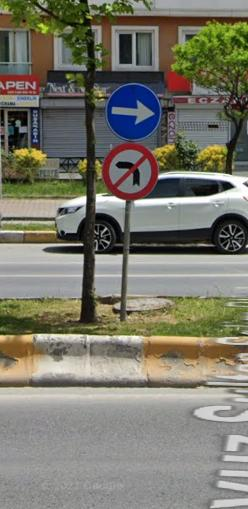leftturnsareforbidden: (105, 144, 153, 195)
turnright: (109, 86, 162, 136)
